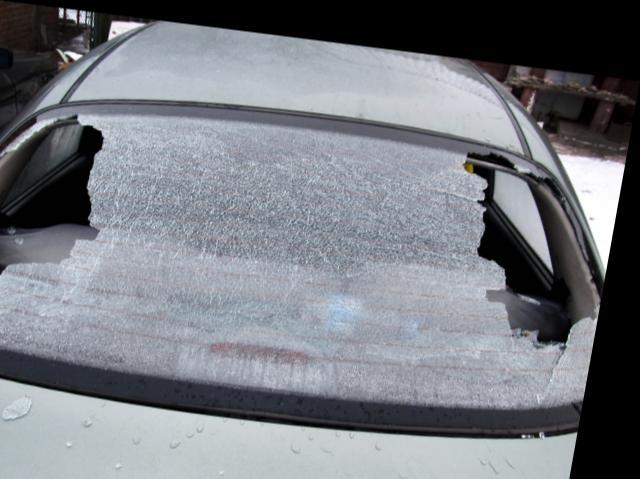glass shatter: (0, 99, 612, 416)
